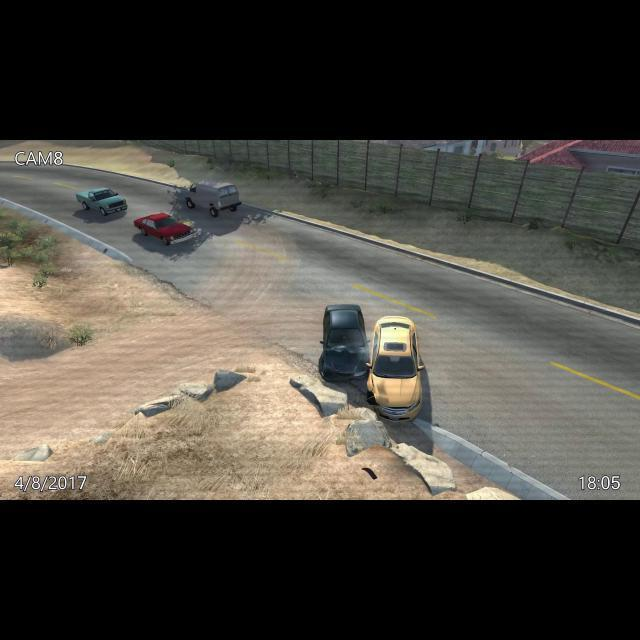accident: (317, 300, 428, 427)
